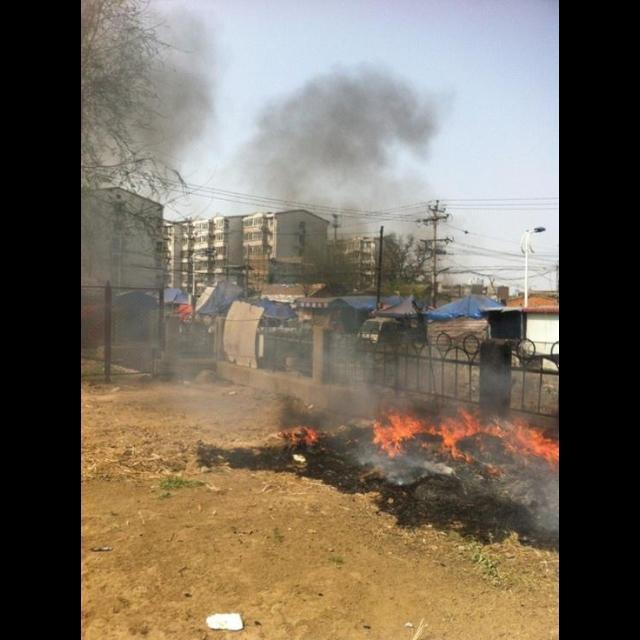Fire: (371, 408, 559, 468), (278, 424, 324, 444)
Smoke: (233, 60, 468, 402), (82, 7, 214, 171)
